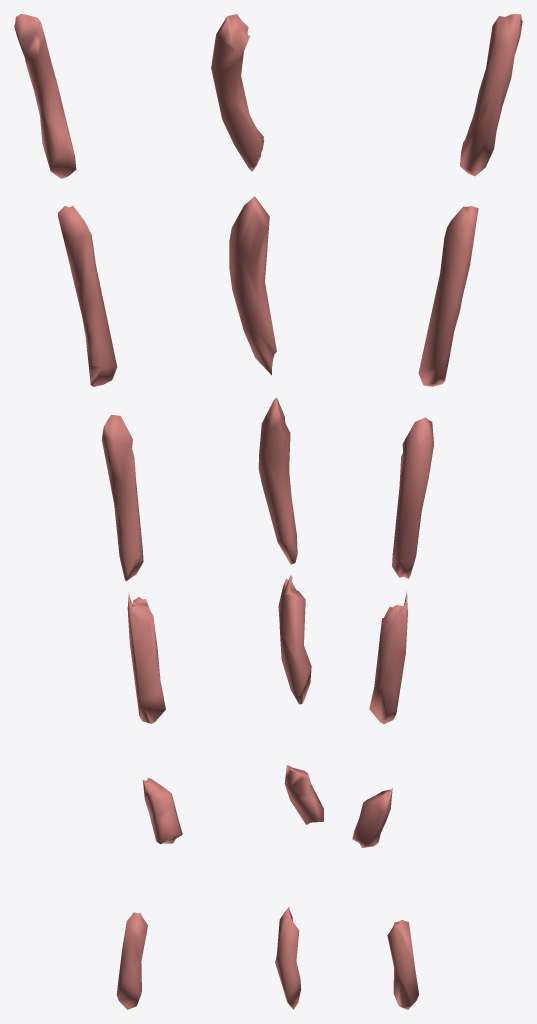
The picture shows the model from 3 angles, left to right: view 1: azimuth 90°, elevation 25°; view 2: azimuth 150°, elevation 25°; view 3: azimuth 270°, elevation 25°; orthographic projection. The views are drawn at different scales.
Visible parts, largest first — view 1: ZA_2f36143448548a00; view 2: ZA_2f36143448548a00; view 3: ZA_2f36143448548a00.
Boxes of the visible parts, x1,y1,x2,y2 form: ZA_2f36143448548a00: [14, 14, 182, 1009]; ZA_2f36143448548a00: [211, 14, 323, 1009]; ZA_2f36143448548a00: [352, 14, 522, 1009].
Bounding box in the file's own units: 0.00874 × 0.1603 × 0.0247.
